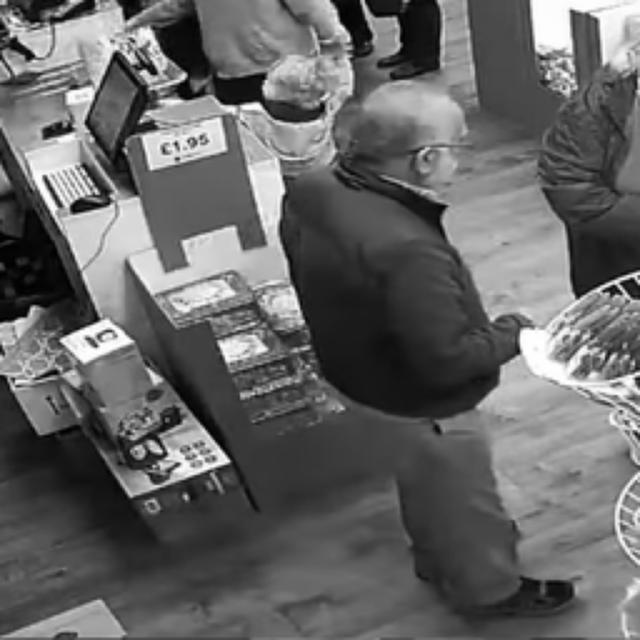Invader: (277, 78, 575, 618), (110, 0, 371, 121), (537, 17, 640, 320), (372, 0, 448, 82)
